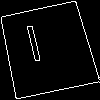I: (22, 24, 47, 72)
